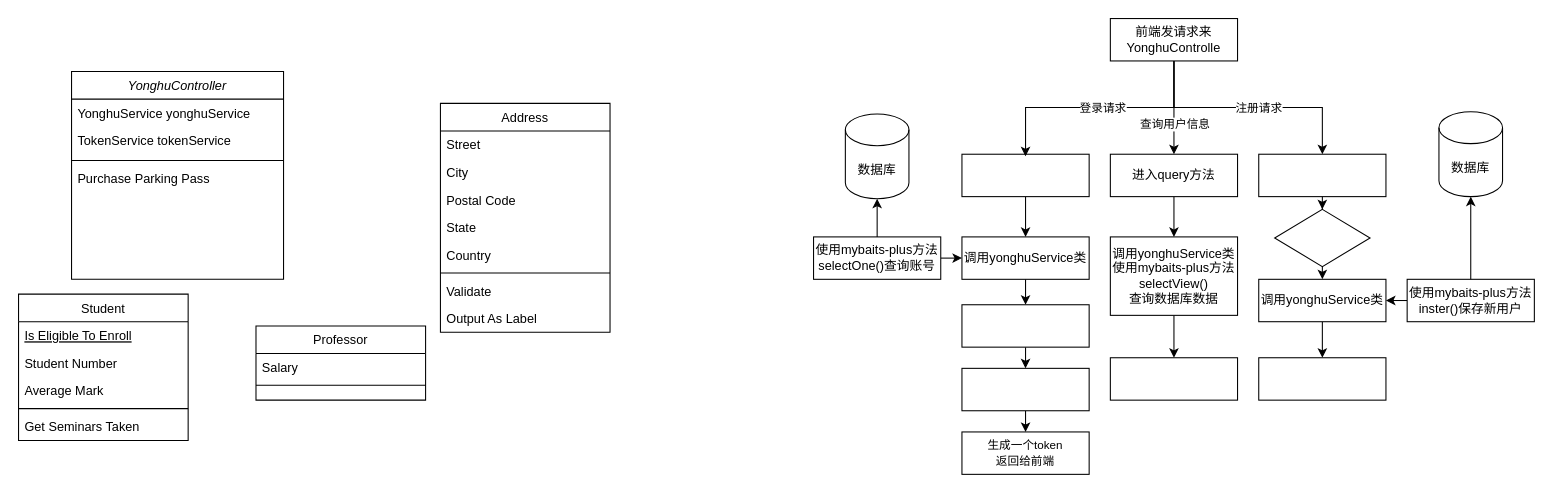
The diagram is 1553 pixels wide and 493 high, and some of its shapes have lost their labels. The shapes that lost their labels are listed below. From the top down, each one's centre as x and y in pixels, then its label:
[1025,175]: 进入login方法
[1322,175]: 进入register方法
[1322,237]: 如果是新用户
[1025,325]: 返回一个 YonghuEntity实体类
[1025,389]: 调用token Service类
[1173,378]: 返回前端 yonghuView视图对象
[1322,378]: 注册成功 返回前端
